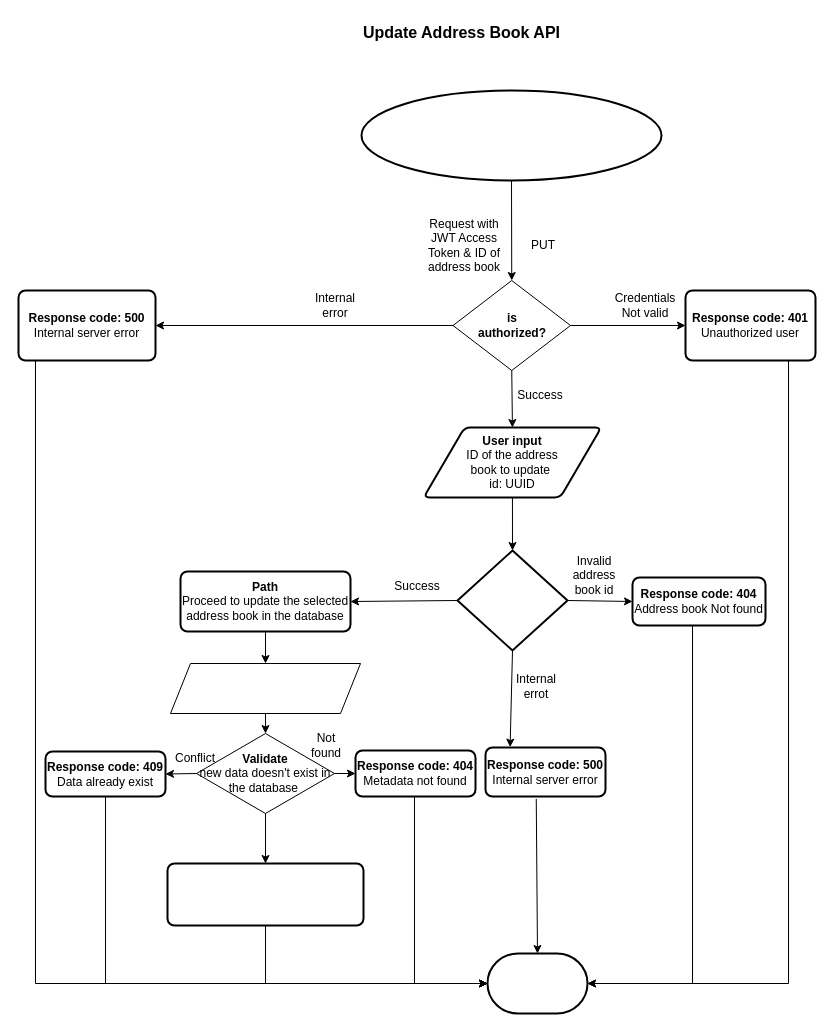
Image size: 833x1031. Some labels were removed from this diagram. The shapes that lost their labels are listed below. From the top down, each one's centre as x and y in pixels, then its label:
At (511,135): "Start /api/address-book/{address-book-id}".
At (512,600): "Validate is the address book exists?".
At (265,688): "User input Get the new data from user to update in the address book".
At (265,894): "Response code: 200 Address book updated successfully".
At (537,983): "Stop".
